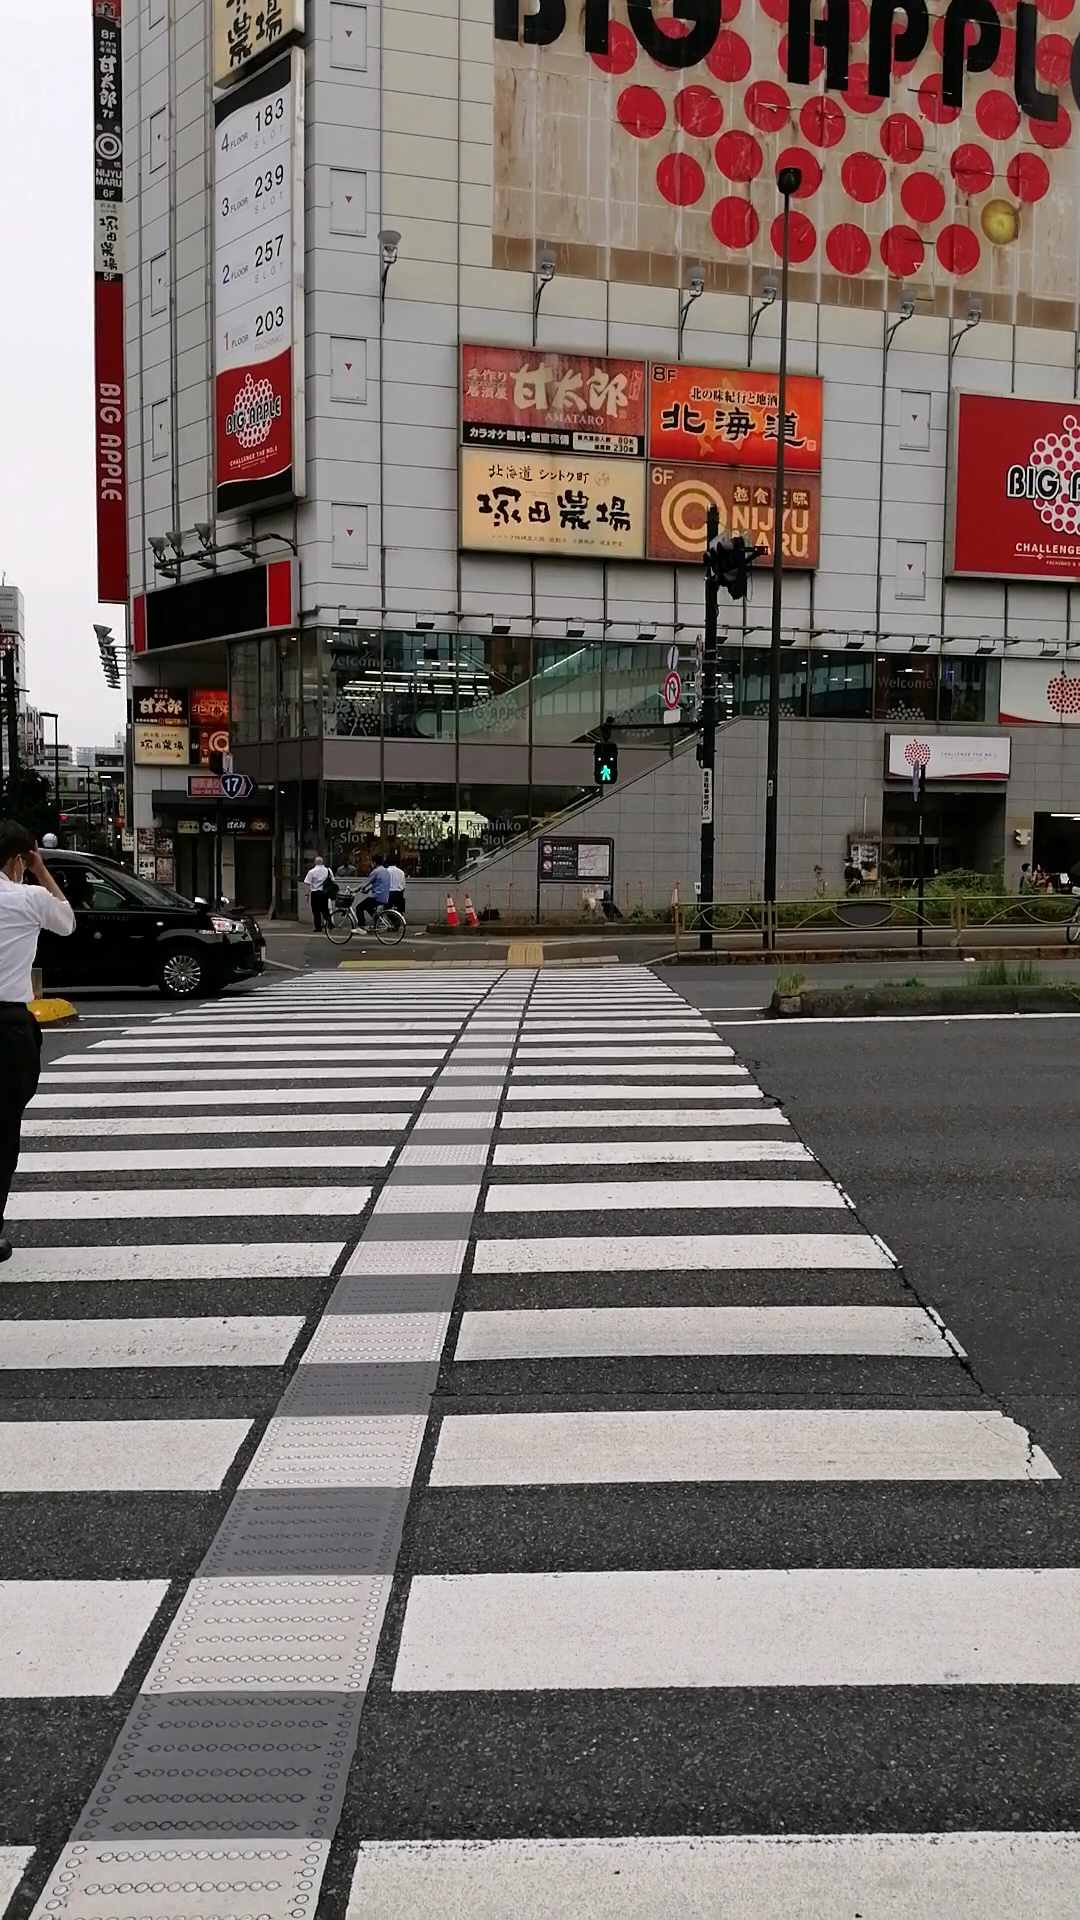green: (593, 741, 616, 785)
